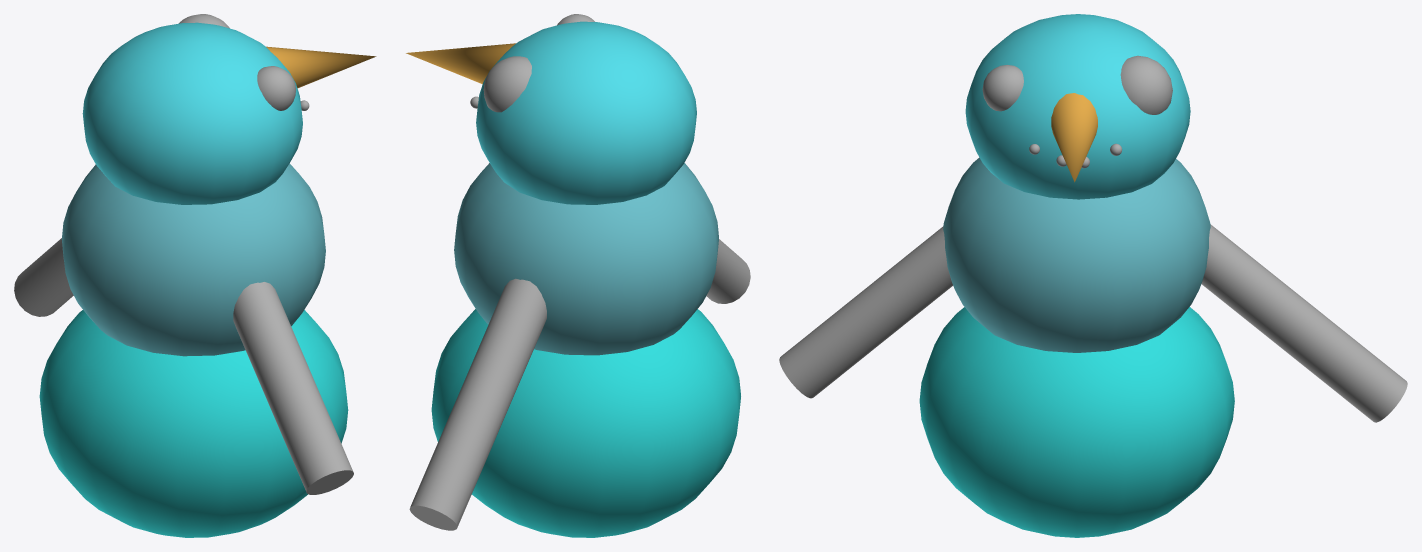
Rendered from snowman.fbx.
3 renders of one model, left to right at view 1: azimuth 30°, elevation 25°; view 2: azimuth 150°, elevation 25°; view 3: azimuth 270°, elevation 25°, orthographic.
Parts seen in each view (by area): view 1: pSphere1, pasted__pSphere2, pSphere3, pCylinder1, pCylinder2, pCone1, pSphere4; view 2: pSphere1, pasted__pSphere2, pSphere3, pCylinder2, pCone1, pSphere5, pCylinder1; view 3: pSphere1, pasted__pSphere2, pSphere3, pCylinder2, pCylinder1, pCone1, pSphere5, pSphere4.
Boxes of the visible parts, bbox=[...] form: pSphere1: bbox=[39, 310, 348, 537]; pasted__pSphere2: bbox=[61, 163, 325, 356]; pSphere3: bbox=[82, 22, 302, 204]; pCylinder1: bbox=[233, 282, 353, 494]; pCylinder2: bbox=[14, 238, 73, 316]; pCone1: bbox=[266, 46, 376, 88]; pSphere4: bbox=[257, 66, 295, 110]; pSphere1: bbox=[431, 309, 740, 537]; pasted__pSphere2: bbox=[454, 163, 718, 355]; pSphere3: bbox=[476, 21, 696, 204]; pCylinder2: bbox=[409, 278, 546, 530]; pCone1: bbox=[406, 43, 515, 83]; pSphere5: bbox=[483, 56, 531, 112]; pCylinder1: bbox=[706, 239, 750, 303]; pSphere1: bbox=[919, 307, 1234, 537]; pasted__pSphere2: bbox=[943, 157, 1210, 352]; pSphere3: bbox=[965, 14, 1190, 199]; pCylinder2: bbox=[1201, 224, 1407, 422]; pCylinder1: bbox=[779, 226, 952, 398]; pCone1: bbox=[1051, 93, 1097, 182]; pSphere5: bbox=[1120, 55, 1172, 114]; pSphere4: bbox=[982, 64, 1023, 111].
Size of the model in its own units: 11.24 by 16.52 by 19.04.
